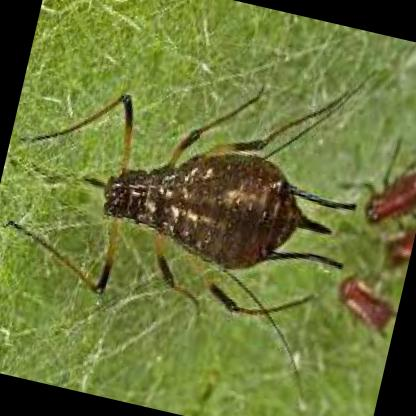uroleucon compositae: (93, 92, 347, 296)
